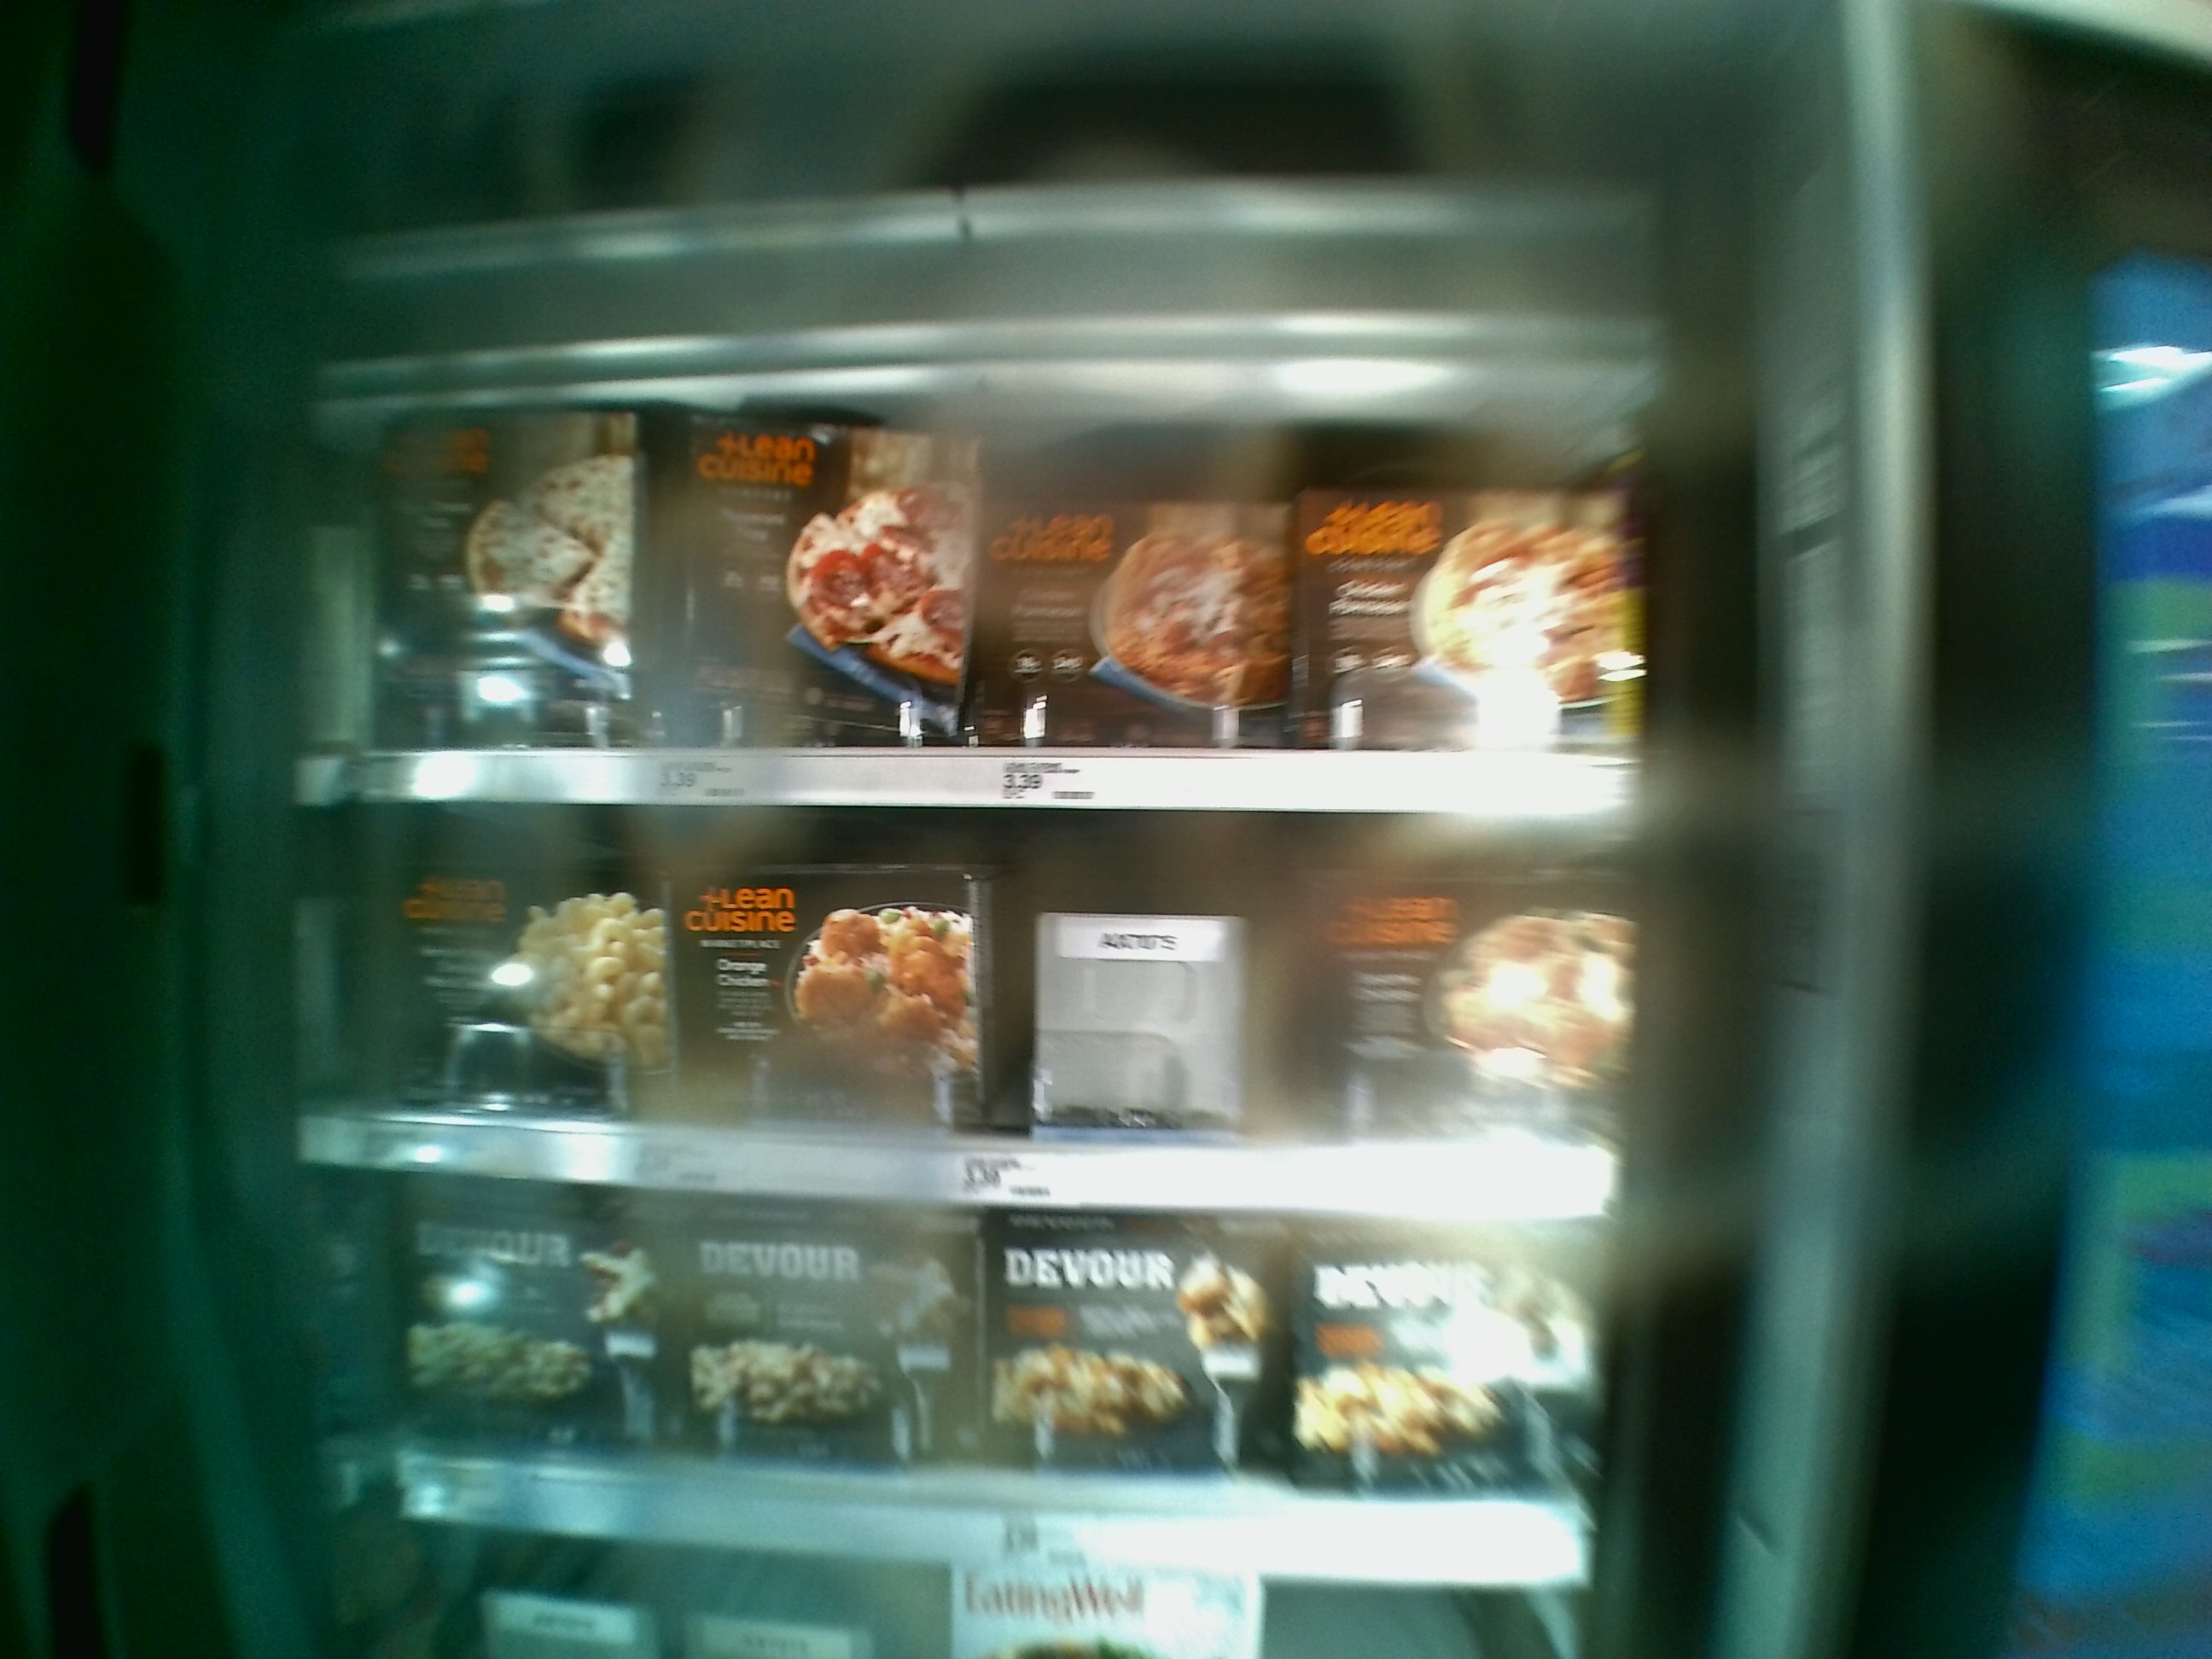shelf: (308, 376, 1641, 807), (307, 802, 1629, 1208), (348, 1173, 1594, 1579)
